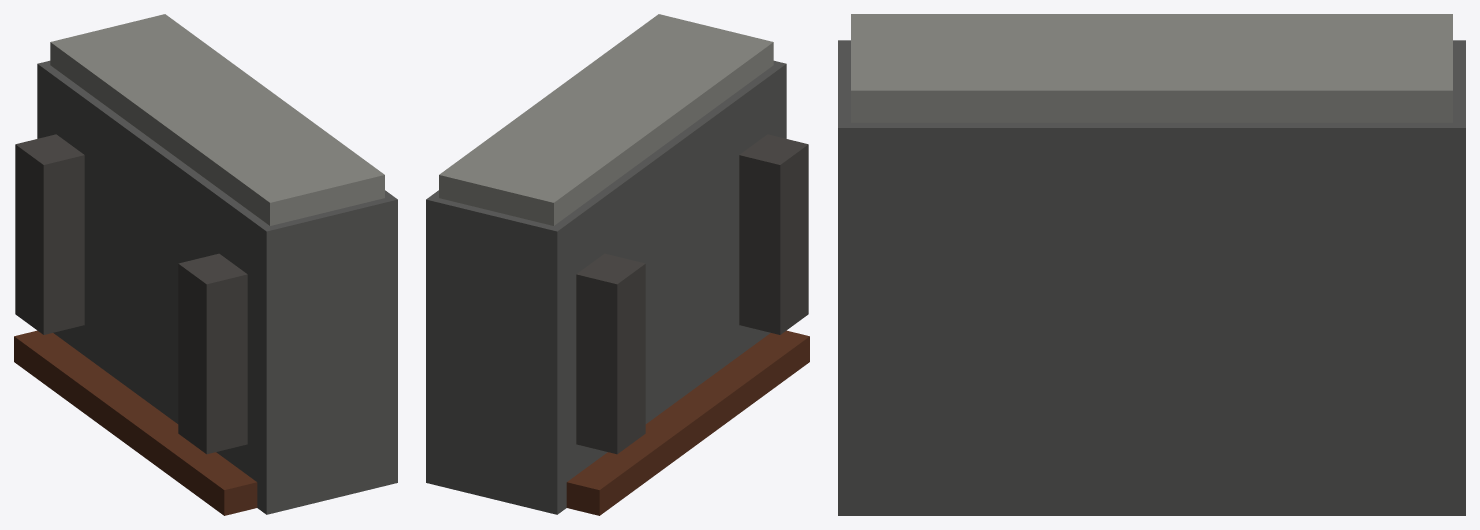
Rendered from bumper_front.glb.
The picture shows the model from 3 angles, left to right: view 1: azimuth 30°, elevation 25°; view 2: azimuth 150°, elevation 25°; view 3: azimuth 270°, elevation 25°; orthographic projection. The views are drawn at different scales.
Parts seen in each view (by area): view 1: bumper_front; view 2: bumper_front; view 3: bumper_front.
Boxes of the visible parts, x1,y1,x2,y2 form: bumper_front: (14, 14, 397, 515); bumper_front: (426, 14, 809, 515); bumper_front: (838, 14, 1465, 515).
Bounding box in the file's own units: 0.21 × 0.357 × 0.484.
